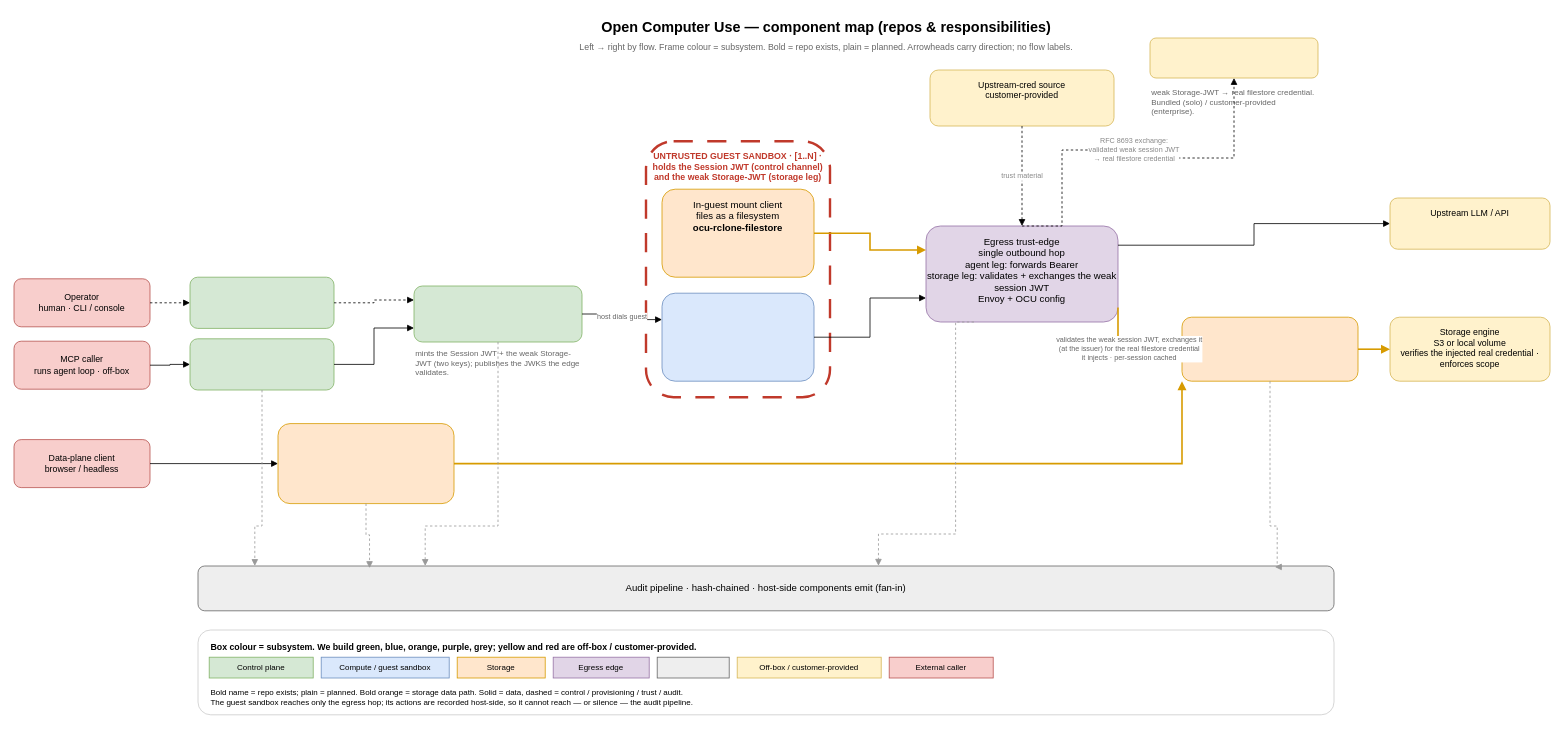
Some shapes in this 1564 by 729 pixel diagram are drawn without their labels. The box of each missing label's shape, as (x1, y1, x2, y2) in pixels:
Audit: (656, 656, 729, 678)
Control / operator API the only door to create or manage a session ocu-control: (413, 285, 582, 342)
MCP gateway tool-call ingress: (189, 338, 334, 390)
Object-store service the only door to storage ocu-filestore: (1181, 316, 1358, 381)
Operator console read-only live view ocu-admin: (189, 276, 334, 328)
RFC 8693 exchange counterparty: (1149, 37, 1318, 78)
Session sandbox guest agent · PID 1 · executor ocu-sandbox: (661, 292, 814, 381)
Web UI upload · preview · download ocu-webui: (277, 423, 454, 504)
